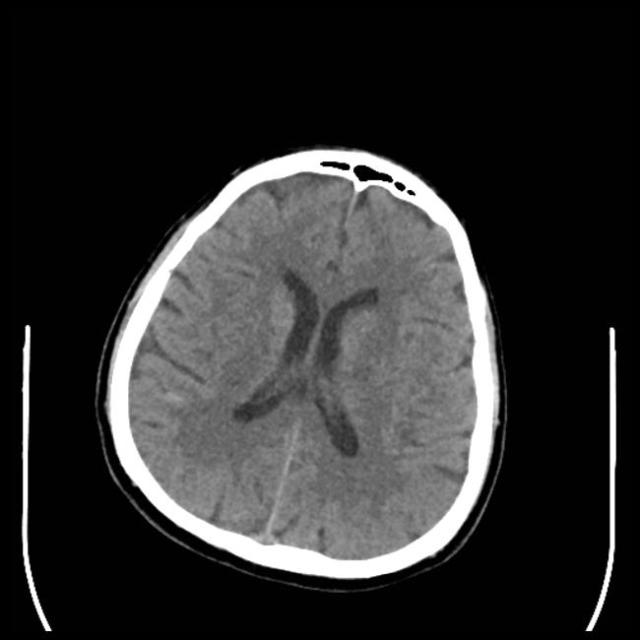lesion: (97, 144, 509, 582)
